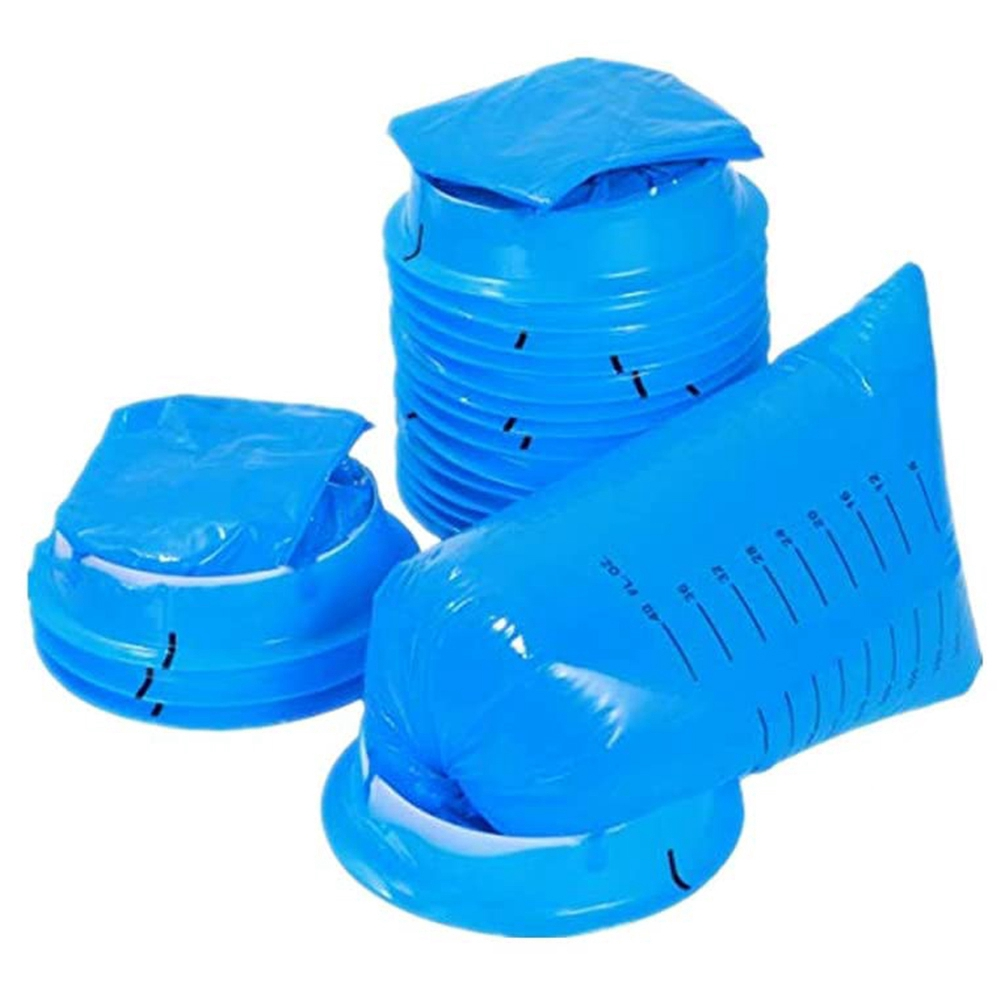plastic_bagwdw: (281, 242, 992, 921), (21, 309, 409, 707), (316, 36, 864, 279)
